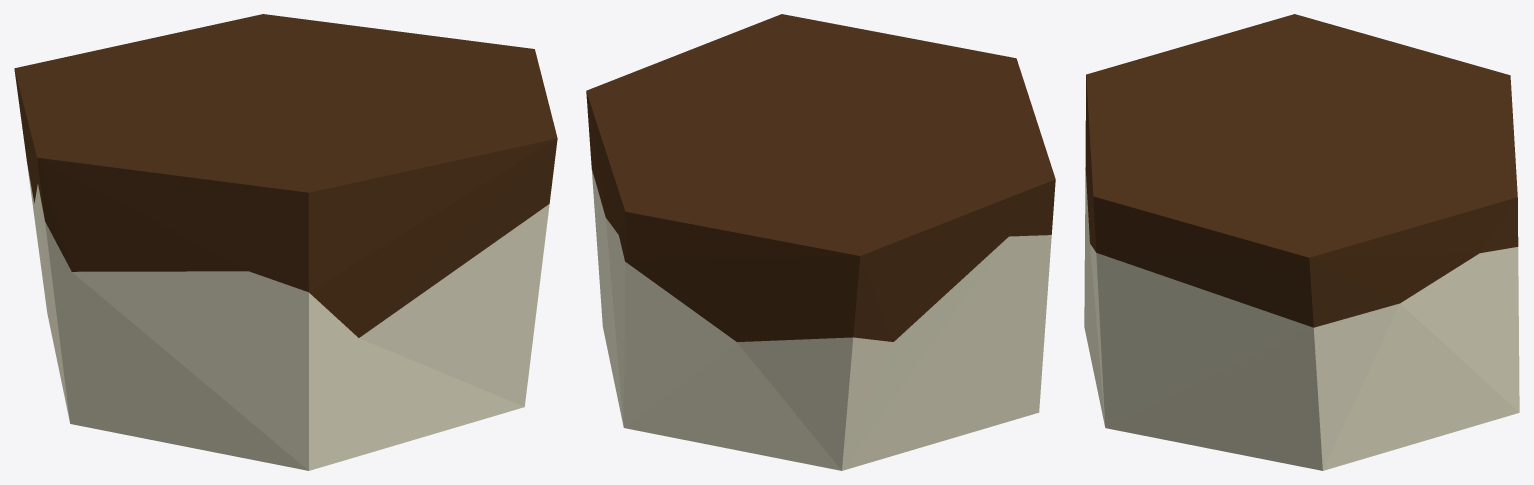
Rendered from tree_trunk_2.FBX.
3 renders of one model, left to right at view 1: azimuth 30°, elevation 25°; view 2: azimuth 150°, elevation 25°; view 3: azimuth 270°, elevation 25°, orthographic. The views are drawn at different scales.
Visible parts, largest first — view 1: tree_trunk_2; view 2: tree_trunk_2; view 3: tree_trunk_2.
Part boxes in pixels (left/top/right/bottom): tree_trunk_2: left=14, top=14, right=557, bottom=470; tree_trunk_2: left=586, top=14, right=1055, bottom=470; tree_trunk_2: left=1084, top=14, right=1519, bottom=470.
Size of the model in its own units: 78.12 by 40.93 by 63.88.
